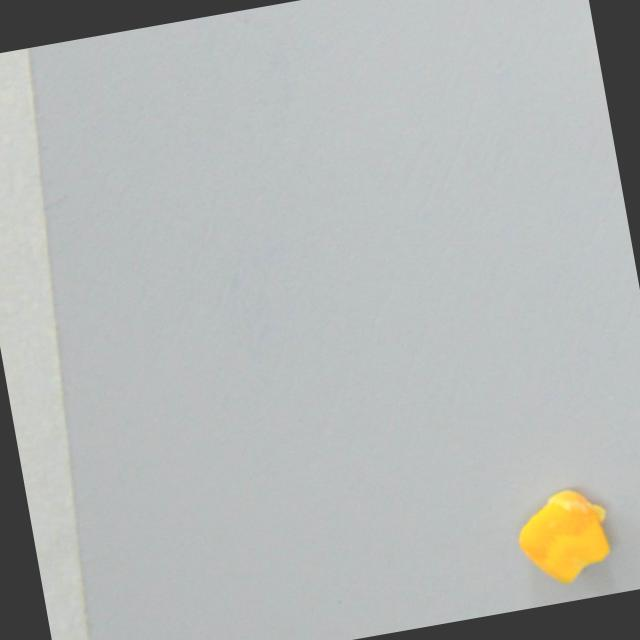pelicula: (510, 482, 618, 592)
